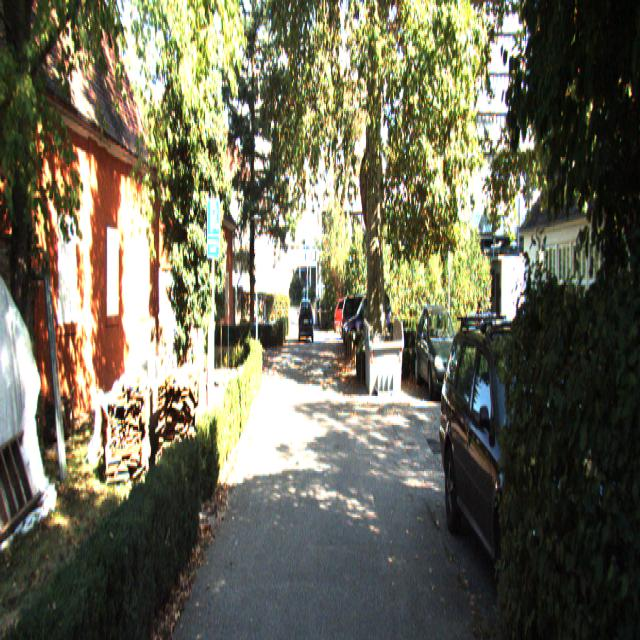Car: (438, 313, 640, 639), (414, 302, 467, 405), (342, 292, 394, 353), (298, 299, 314, 343)
